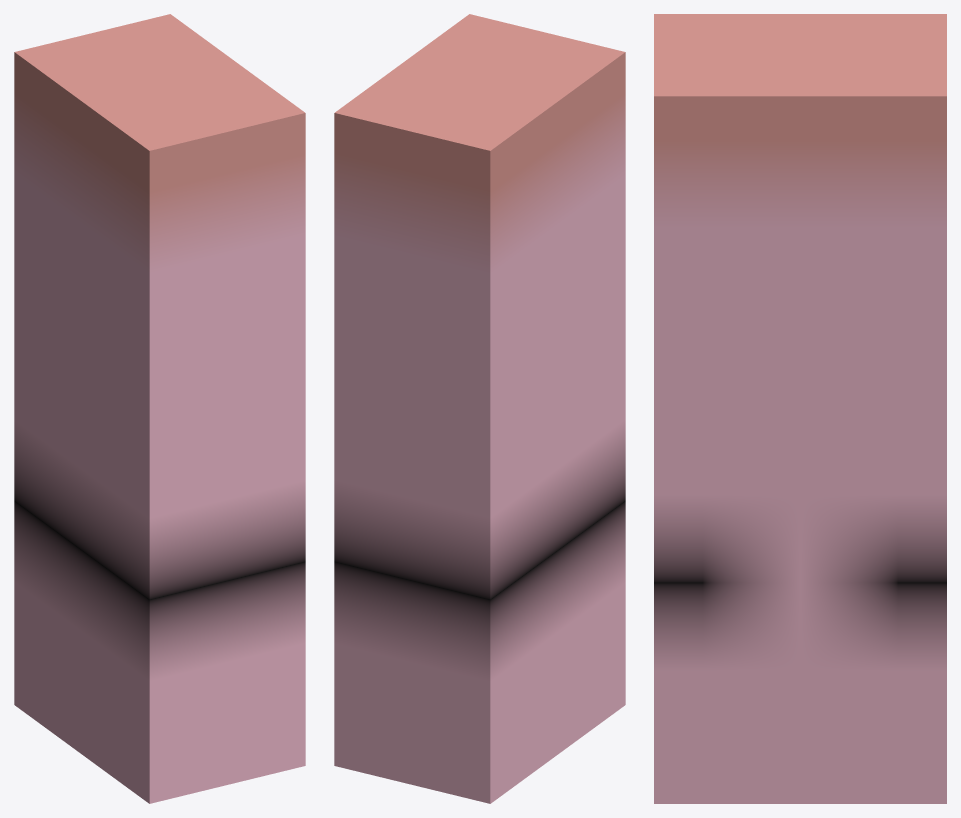
Rendered from devil_armR.fbx.
3 renders of one model, left to right at view 1: azimuth 30°, elevation 25°; view 2: azimuth 150°, elevation 25°; view 3: azimuth 270°, elevation 25°, orthographic. The views are drawn at different scales.
Parts seen in each view (by area): view 1: devil_armR; view 2: devil_armR; view 3: devil_armR.
Boxes of the visible parts, box(x1,y1,x2,y2) form: devil_armR: box(14, 14, 305, 803); devil_armR: box(334, 14, 625, 803); devil_armR: box(654, 14, 946, 803).
Size of the model in its own units: 2 by 8 by 3.
